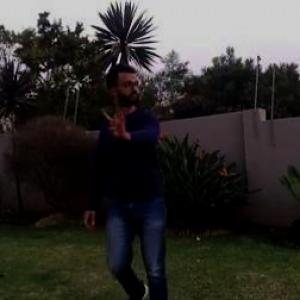takeoff-hand: (100, 102, 132, 140)
